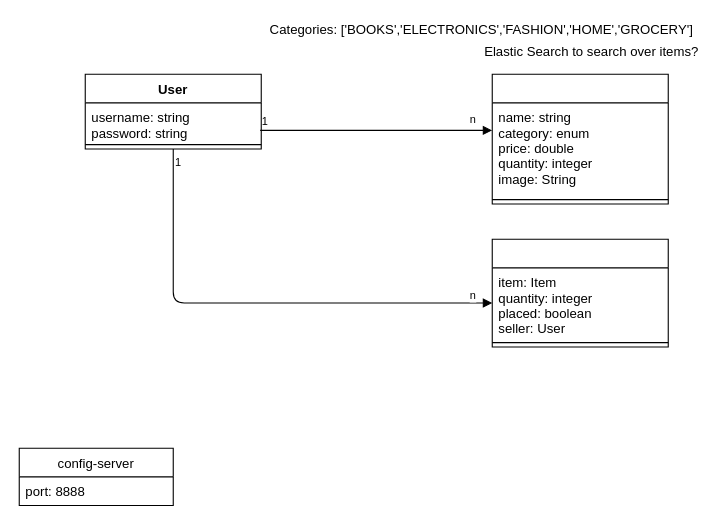
Image size: 721x527. Some labels were removed from this diagram. The box of each missing label's shape, as (x1, y1, x2, y2) in pixels:
Item: (491, 73, 668, 204)
Order: (491, 238, 668, 347)
